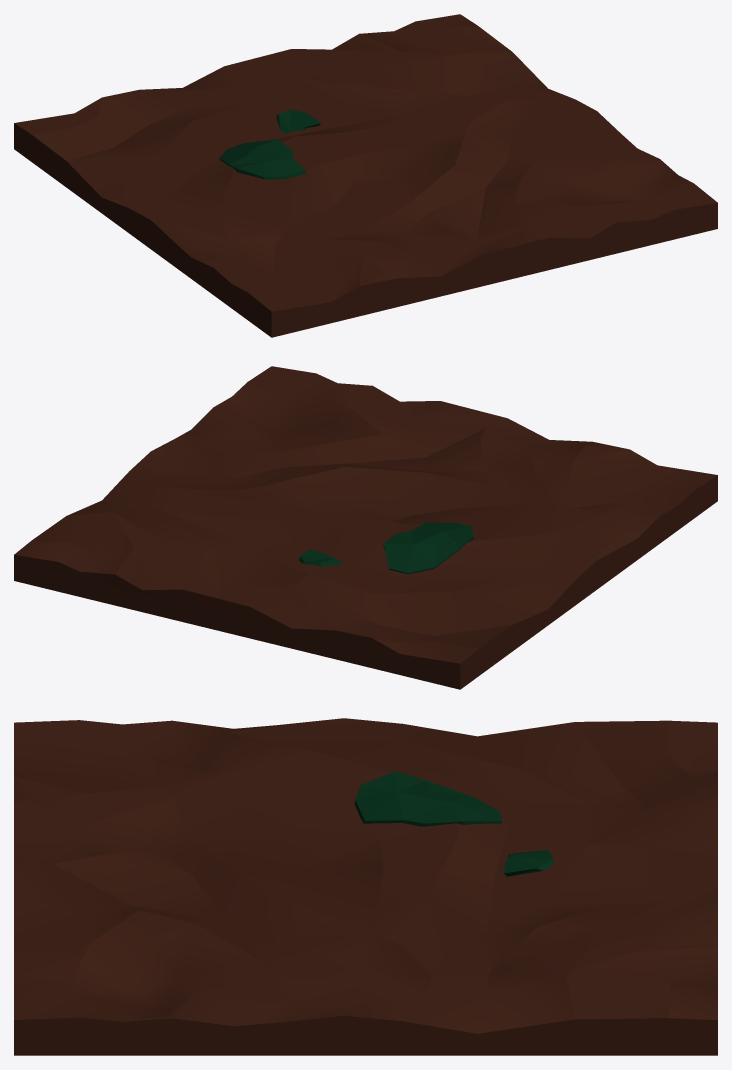
The model's file is Ground_Base_B.fbx.
3 views of the same model, one above another, from view 1: azimuth 30°, elevation 25°; view 2: azimuth 150°, elevation 25°; view 3: azimuth 270°, elevation 25° (orthographic). The views are drawn at different scales.
Visible parts, largest first — view 1: Ground_Base_B; view 2: Ground_Base_B; view 3: Ground_Base_B.
Part boxes in pixels (x1,y1,x2,y2): Ground_Base_B: [14, 14, 717, 337]; Ground_Base_B: [14, 366, 717, 689]; Ground_Base_B: [14, 718, 717, 1055].
Bounding box in the file's own units: 147 × 13.11 × 147.
